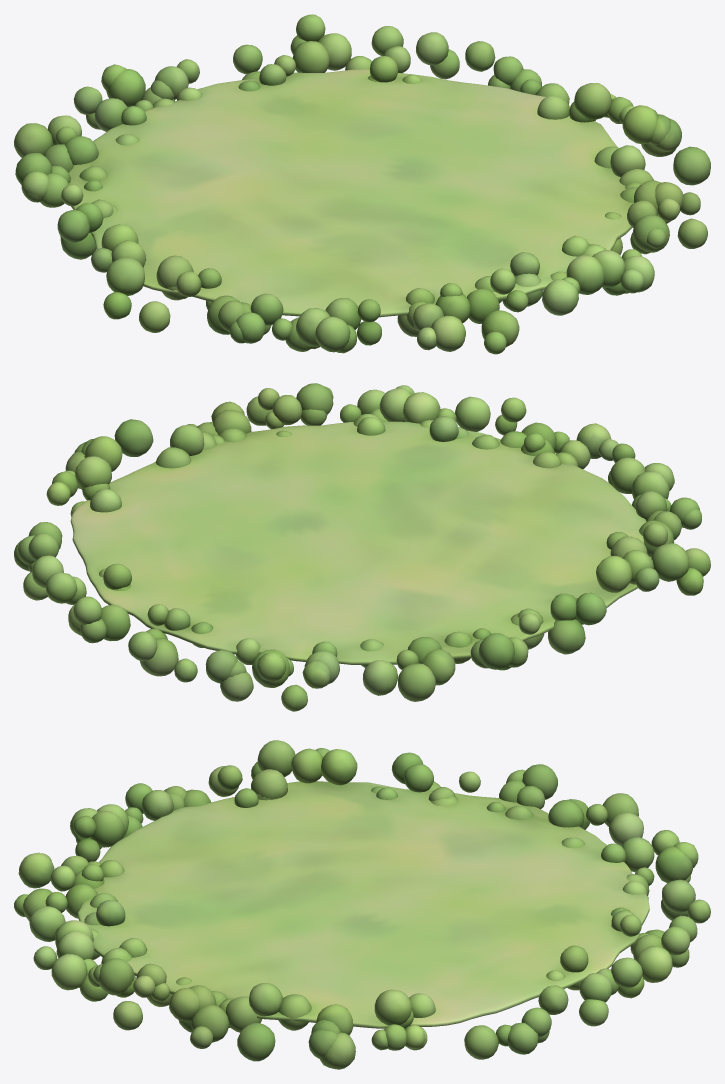
Rendered from cell-plate.glb.
3 views of the same model, one above another, from view 1: azimuth 30°, elevation 25°; view 2: azimuth 150°, elevation 25°; view 3: azimuth 270°, elevation 25° (orthographic).
Parts seen in each view (by area): view 1: cell-plate-plate, cell-plate-vesicles; view 2: cell-plate-plate, cell-plate-vesicles; view 3: cell-plate-plate, cell-plate-vesicles.
Part boxes in pixels (x1,y1,x2,y2): cell-plate-plate: (68, 69, 633, 317); cell-plate-vesicles: (14, 14, 710, 354); cell-plate-plate: (70, 421, 646, 664); cell-plate-vesicles: (14, 383, 710, 711); cell-plate-plate: (77, 781, 649, 1028); cell-plate-vesicles: (14, 740, 710, 1069).
Size of what is drawn, in the model's own units: 2.18 by 0.2529 by 2.21.
